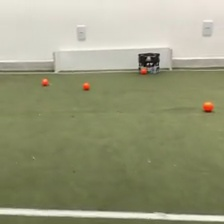ball: (203, 100, 214, 113), (40, 76, 49, 86), (82, 81, 91, 90), (140, 66, 148, 75)
goal: (52, 45, 174, 75)
robot: (137, 51, 161, 75)
